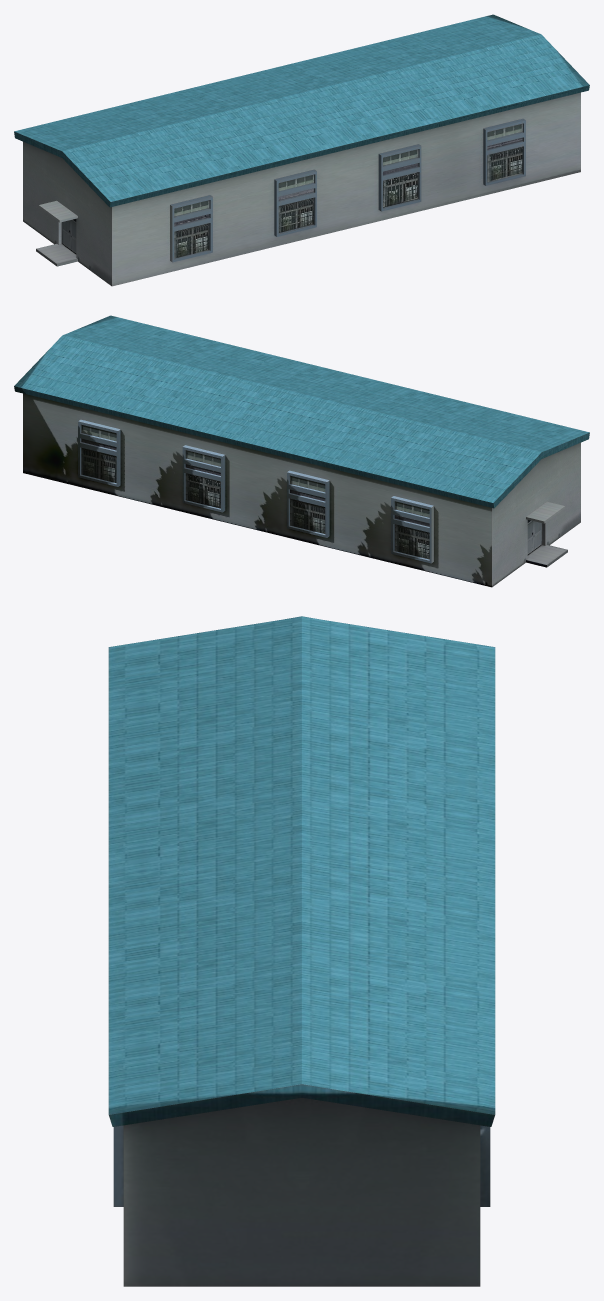
File: build11YNSCYQ.glb
3 renders of one model, top to bottom at view 1: azimuth 30°, elevation 25°; view 2: azimuth 150°, elevation 25°; view 3: azimuth 270°, elevation 25°, orthographic. The views are drawn at different scales.
Parts seen in each view (by area): view 1: bulid11YNSCYQ; view 2: bulid11YNSCYQ; view 3: bulid11YNSCYQ.
Part boxes in pixels (box(x1,y1,x2,y2)): bulid11YNSCYQ: box(14, 14, 589, 286); bulid11YNSCYQ: box(14, 315, 589, 587); bulid11YNSCYQ: box(108, 616, 495, 1286).
Size of the model in its own units: 3191 by 639 by 1079.
1 material, 1 textured.
